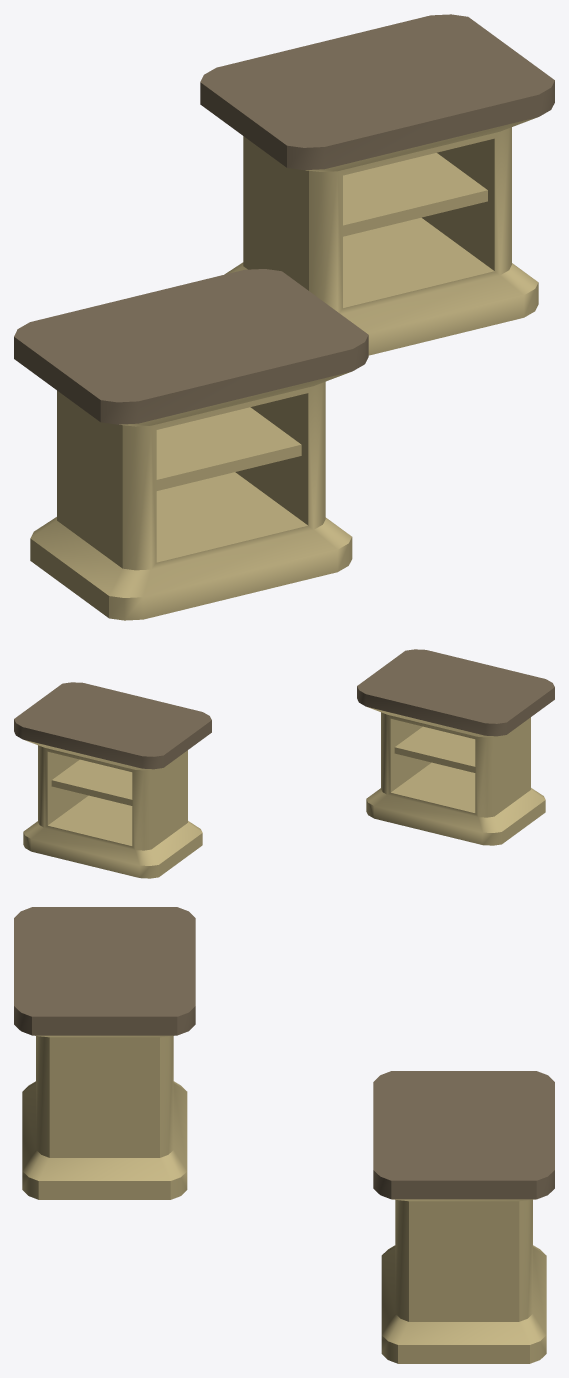
File: Lab Component Workstations v6-29 1600.fbx
The picture shows the model from 3 angles, top to bottom: view 1: azimuth 30°, elevation 25°; view 2: azimuth 150°, elevation 25°; view 3: azimuth 270°, elevation 25°; orthographic projection. The views are drawn at different scales.
Visible parts, largest first — view 1: work_station_2, work_station, shelf_2, shelf; view 2: work_station_2, work_station, shelf, shelf_2; view 3: work_station, work_station_2.
Boxes of the visible parts, <box> form: work_station_2: <box>14,269,368,620</box>; work_station: <box>200,14,554,355</box>; shelf_2: <box>156,407,301,490</box>; shelf: <box>343,153,487,236</box>; work_station_2: <box>357,649,554,845</box>; work_station: <box>14,682,211,878</box>; shelf: <box>51,759,132,805</box>; shelf_2: <box>394,726,475,772</box>; work_station: <box>373,1071,554,1363</box>; work_station_2: <box>14,907,195,1199</box>.
Size of the model in its own units: 380 by 122 by 318.
